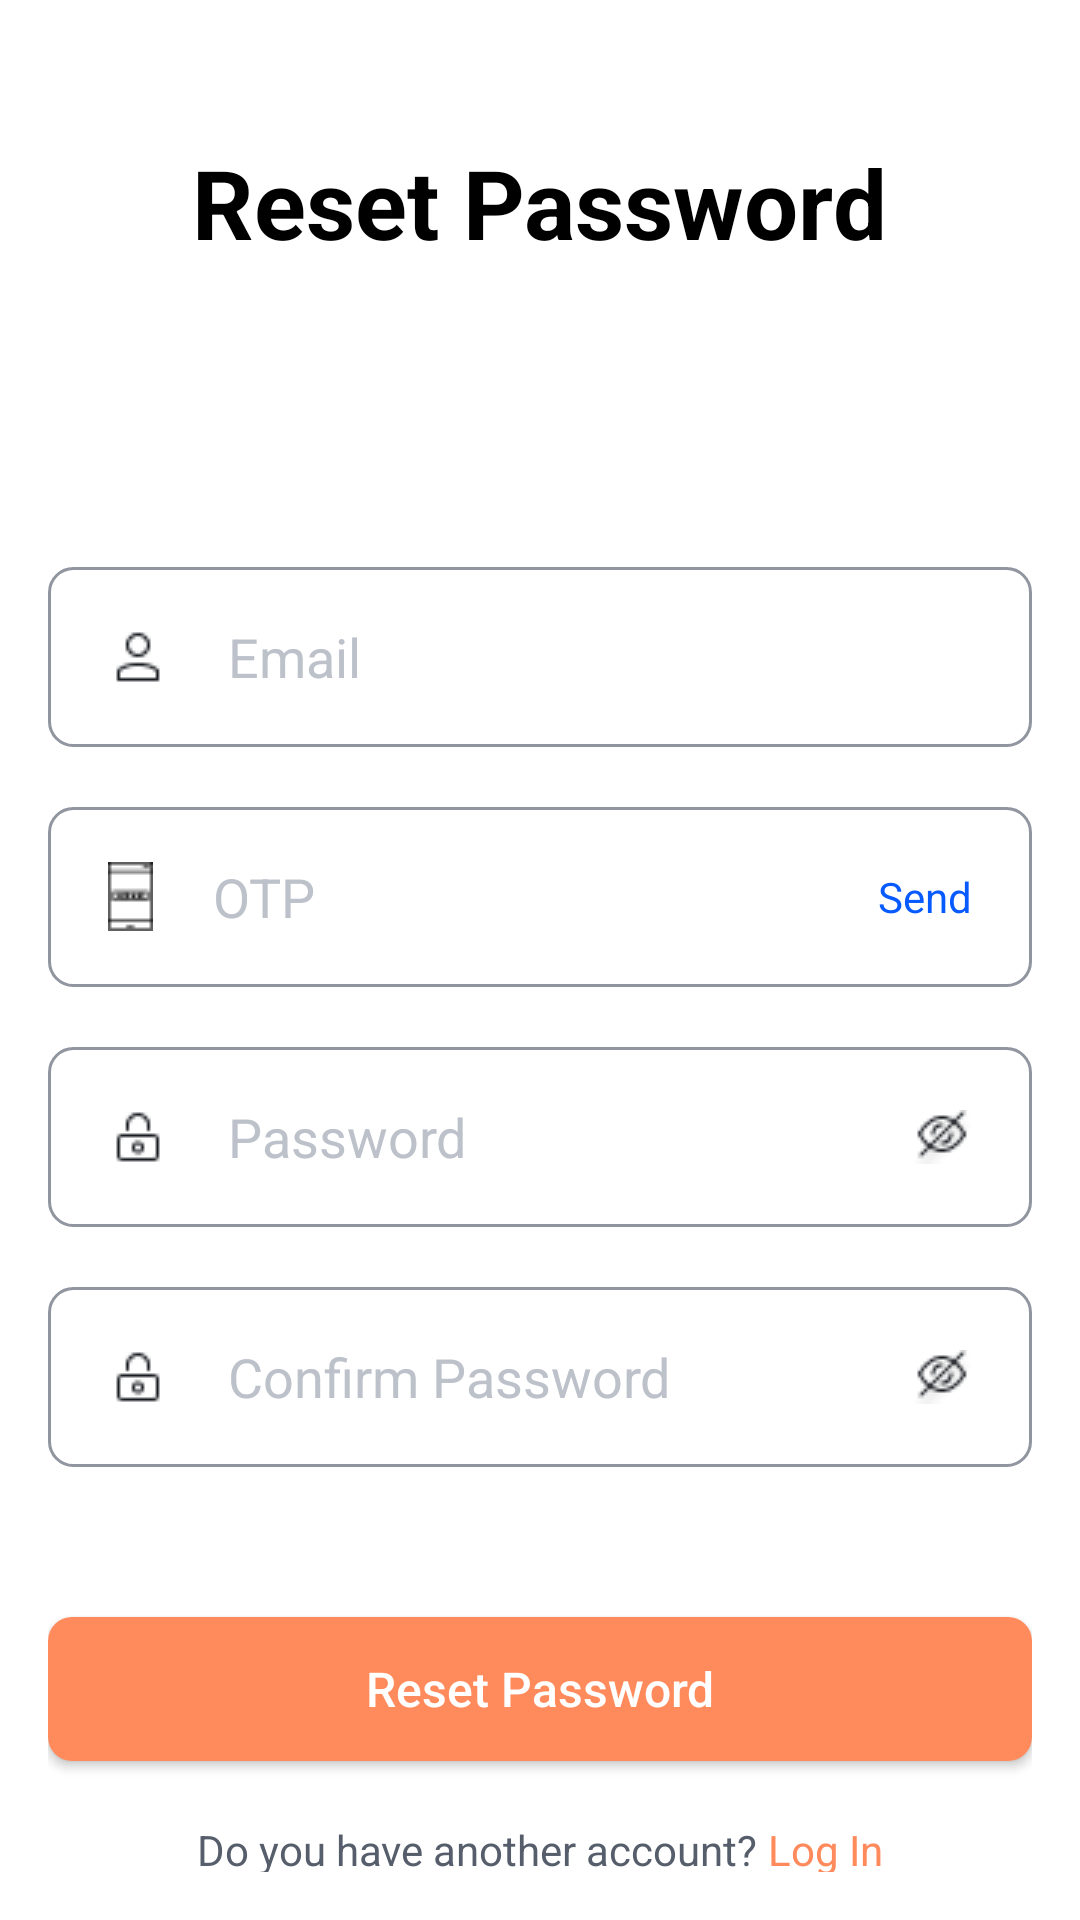

Where icons sit on this 1080 × 1920 app screen, as {"left": x1, "top": y1, "right": x2, "bottom": y2}:
eye: {"left": 917, "top": 1110, "right": 967, "bottom": 1158}, {"left": 917, "top": 1350, "right": 967, "bottom": 1398}
lock: {"left": 116, "top": 1112, "right": 160, "bottom": 1162}, {"left": 116, "top": 1352, "right": 160, "bottom": 1402}
user: {"left": 116, "top": 632, "right": 160, "bottom": 682}
